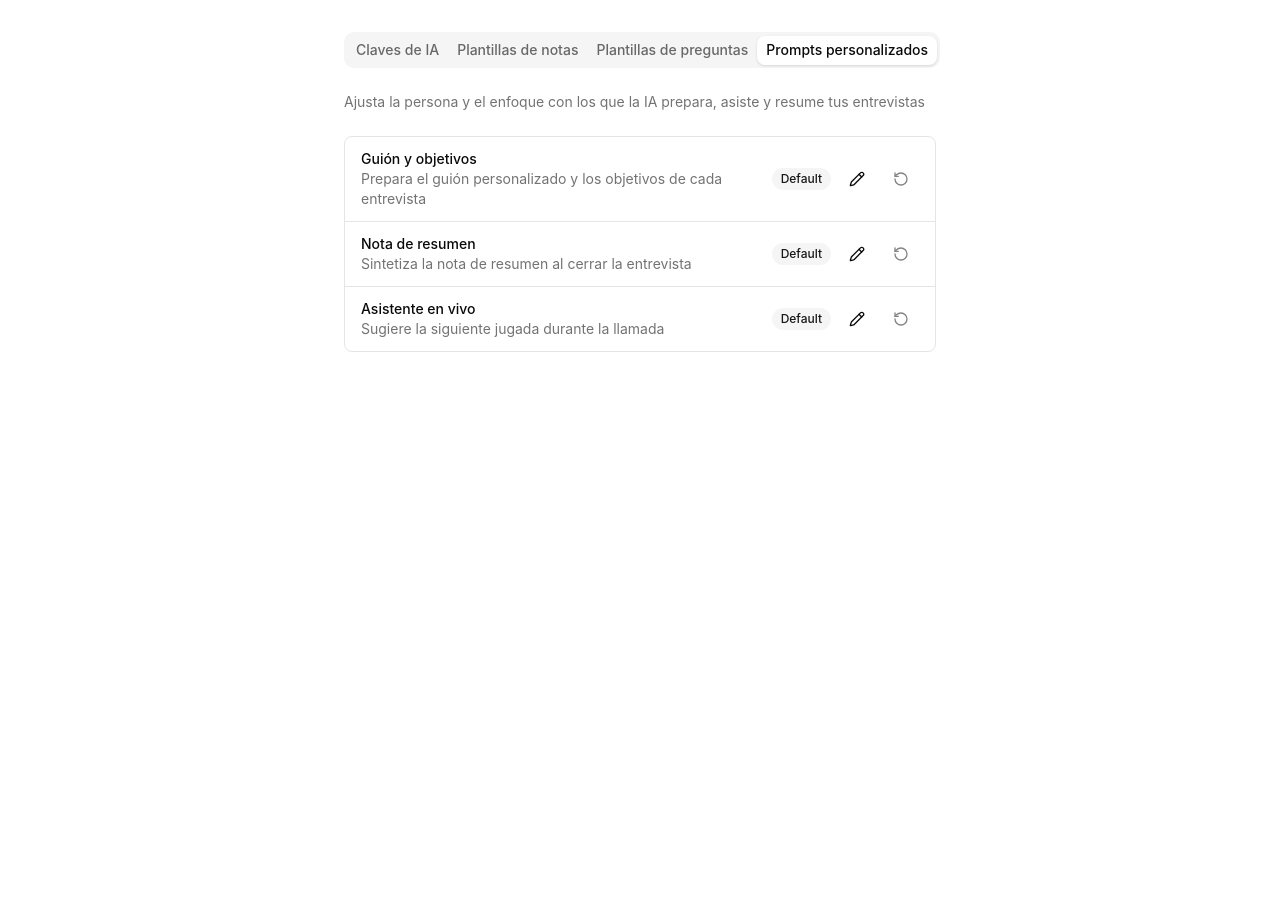
Scenario: CustomPromptItem › in-place editing › saves the text as Markdown, shows the "Prompt guardado" toast, switches the badge to "Personalizado" and keeps the item expanded without the buttons
Click the button named "Editar prompt" in the row of "Guión y objetivos" at (857,179), box [839, 161, 875, 197]
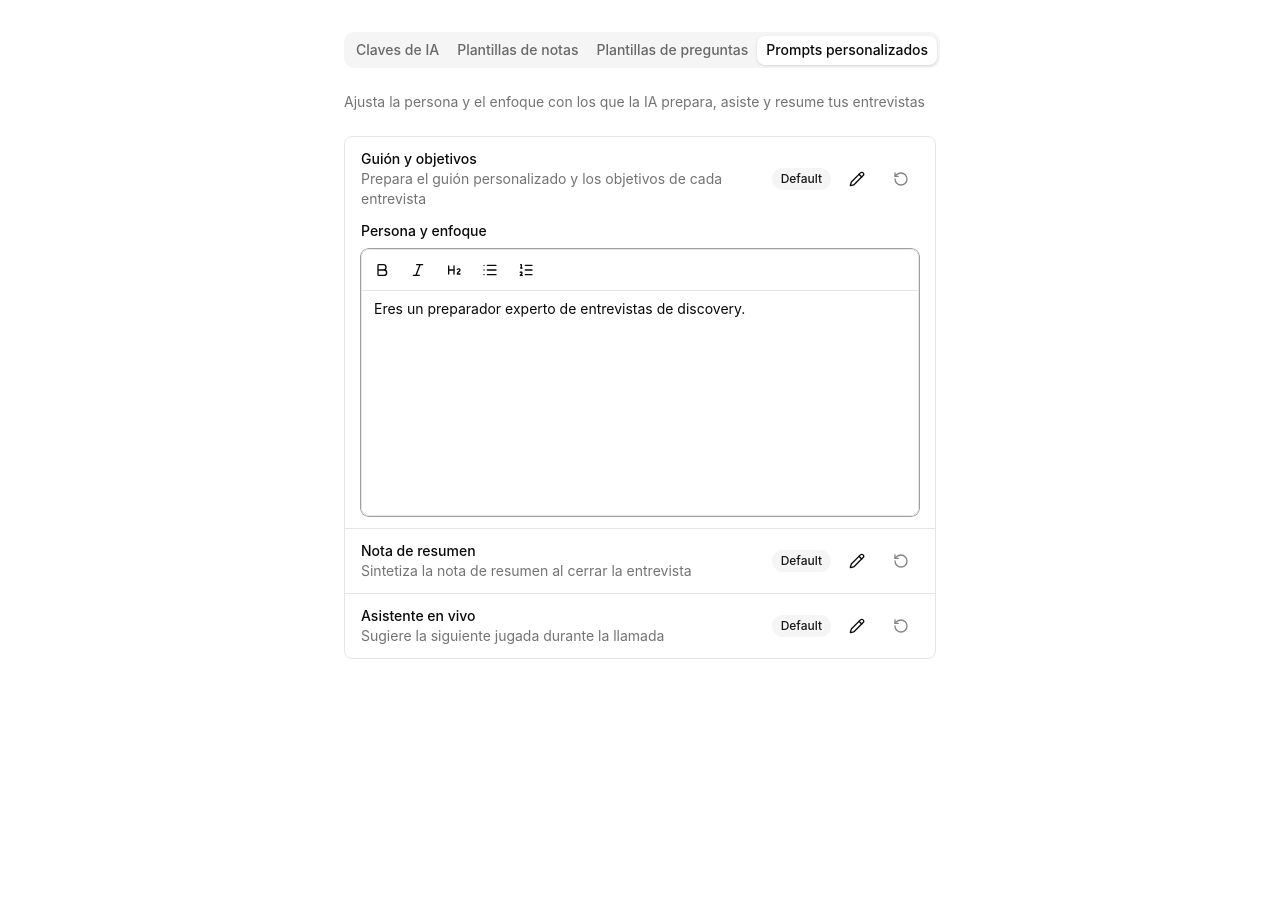
Click the button named "Título" at (454,270), box [438, 254, 470, 286]
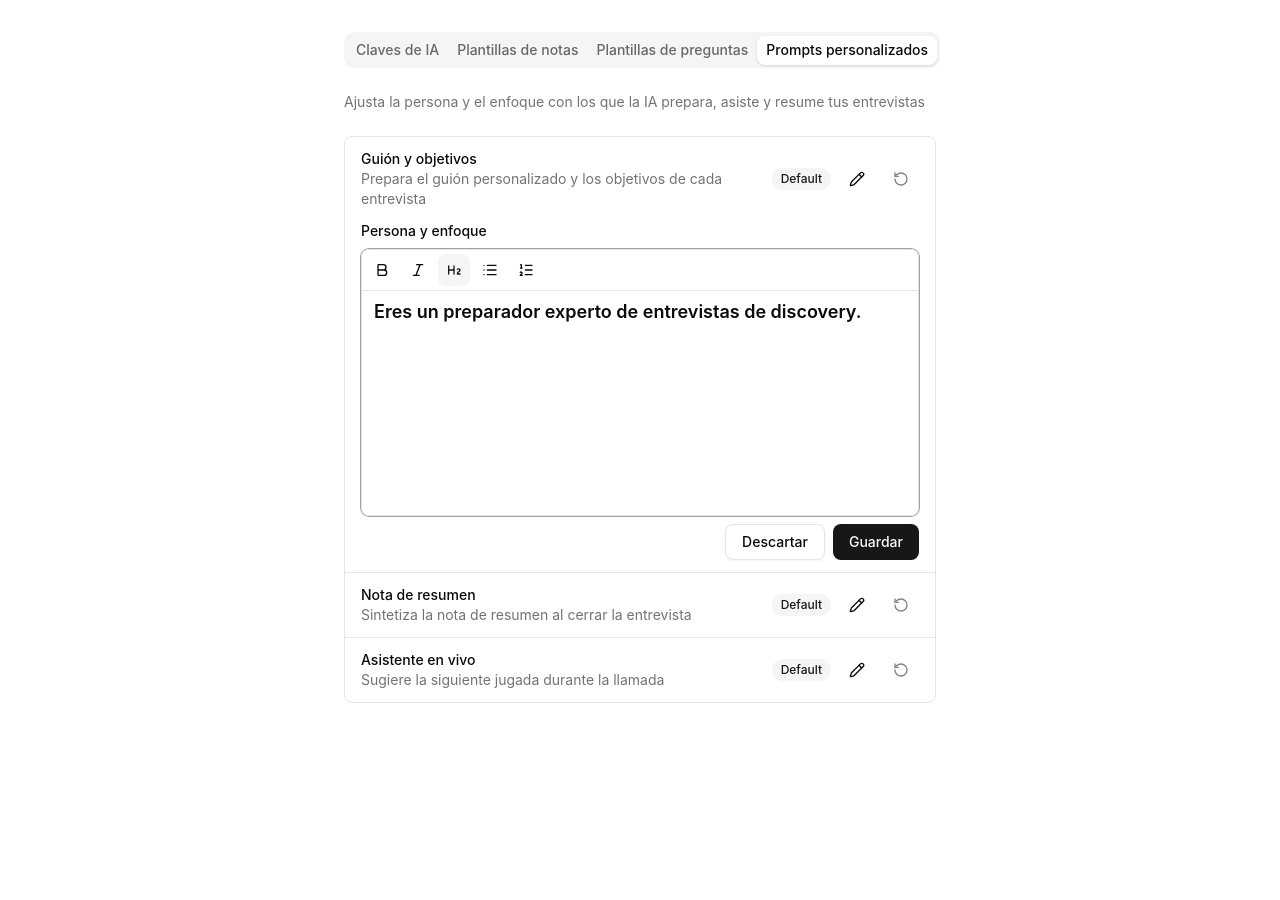
Click the button "Guardar" at (876,542), box [833, 524, 919, 560]
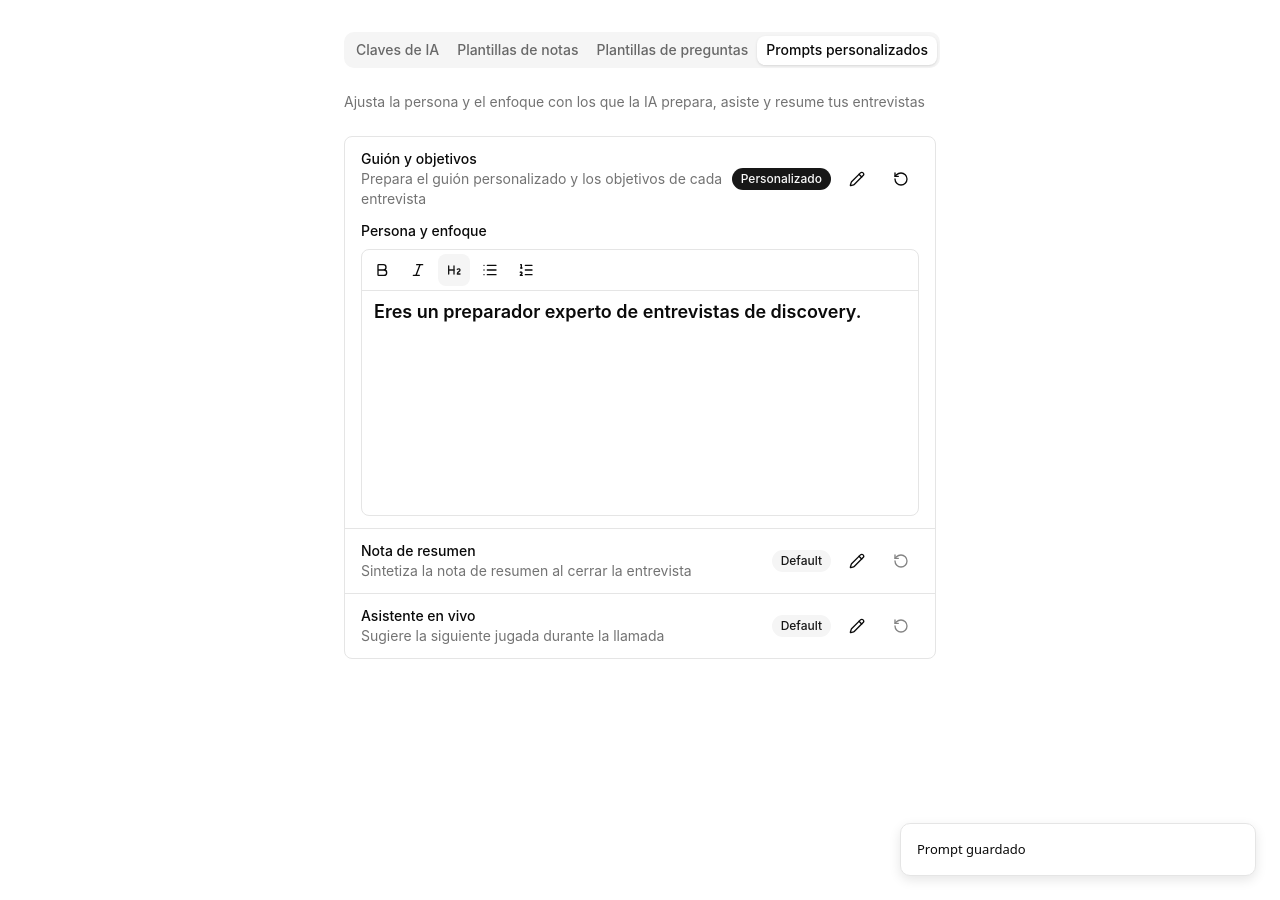
Check: the heading reads "Eres un preparador experto de entrevistas de discovery.", box [374, 301, 862, 322]
Check: the text "Personalizado" is shown, box [732, 168, 831, 190]
Check: the element with test id "custom-prompt-actions-script" is gone
